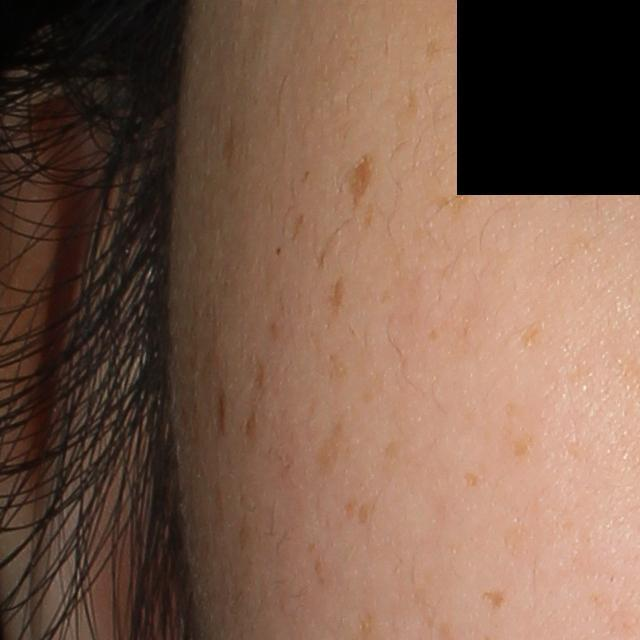melasma: (310, 416, 351, 482), (427, 180, 488, 222), (337, 153, 376, 206), (324, 273, 350, 319), (517, 319, 549, 350), (478, 588, 512, 615), (213, 387, 228, 441), (421, 34, 443, 63), (249, 359, 267, 392), (289, 211, 308, 242), (244, 408, 260, 438), (460, 471, 484, 490), (313, 554, 329, 582), (355, 500, 372, 525)
